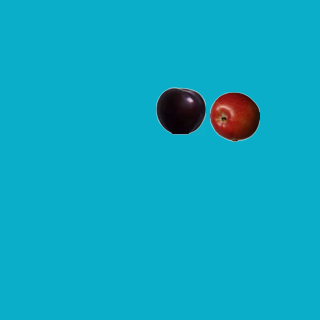Apple Braeburn: (209, 91, 259, 141)
Cherry Wax Black: (155, 85, 205, 135)
